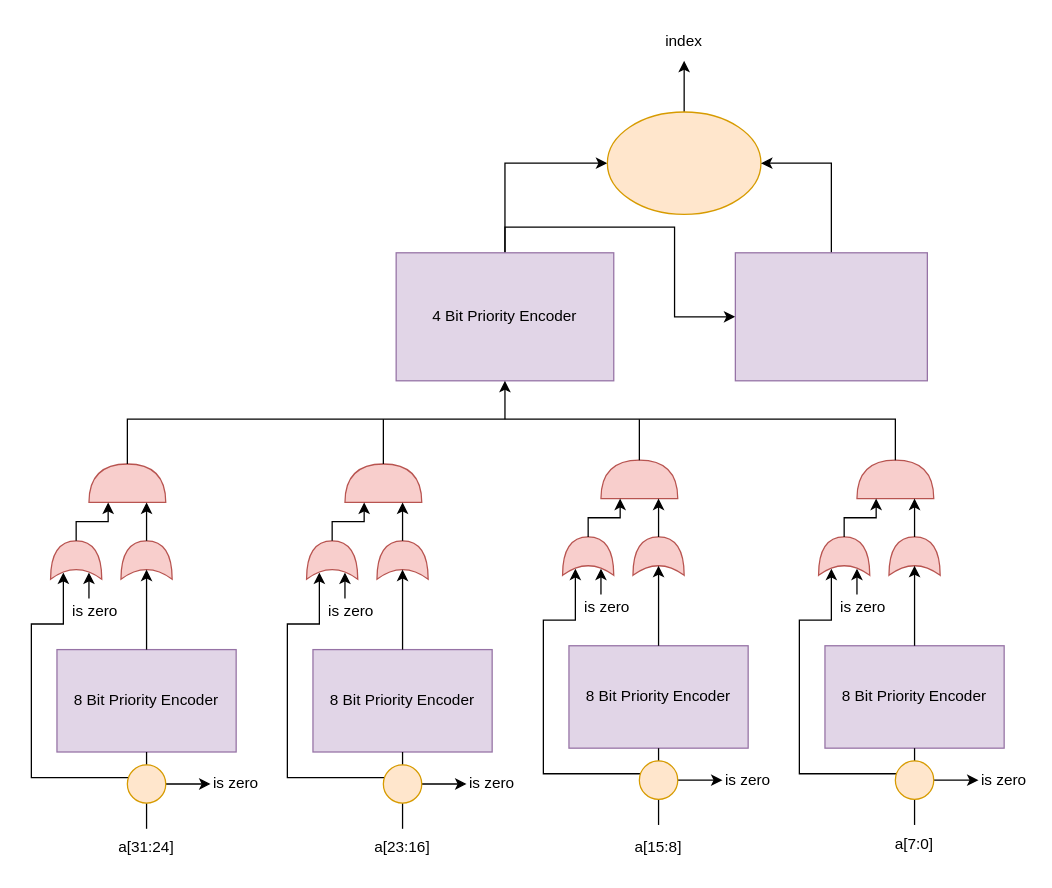
The diagram is 1052 pixels wide and 888 high, and some of its shapes have lost their labels. Each missing label, with the centre of its shape:
"concatenate" goes at pixel 683 162.
"LSB selection mux" goes at pixel 830 316.
